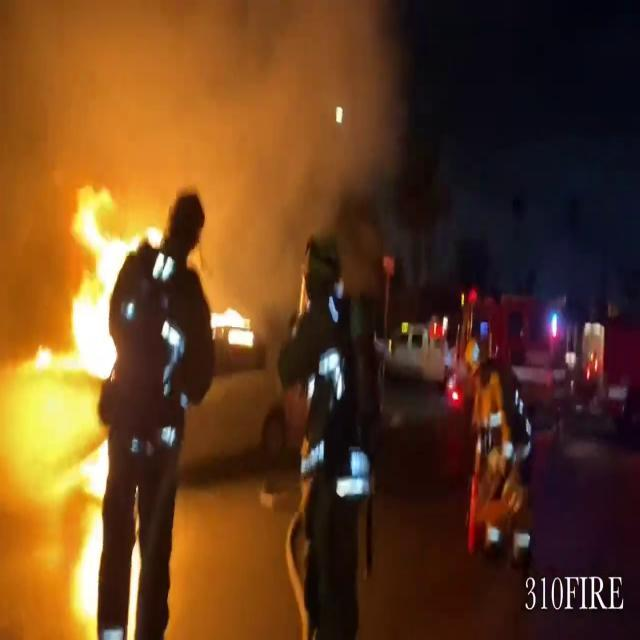Fire: (17, 168, 130, 633), (210, 294, 262, 356)
Smoke: (2, 0, 404, 268)
